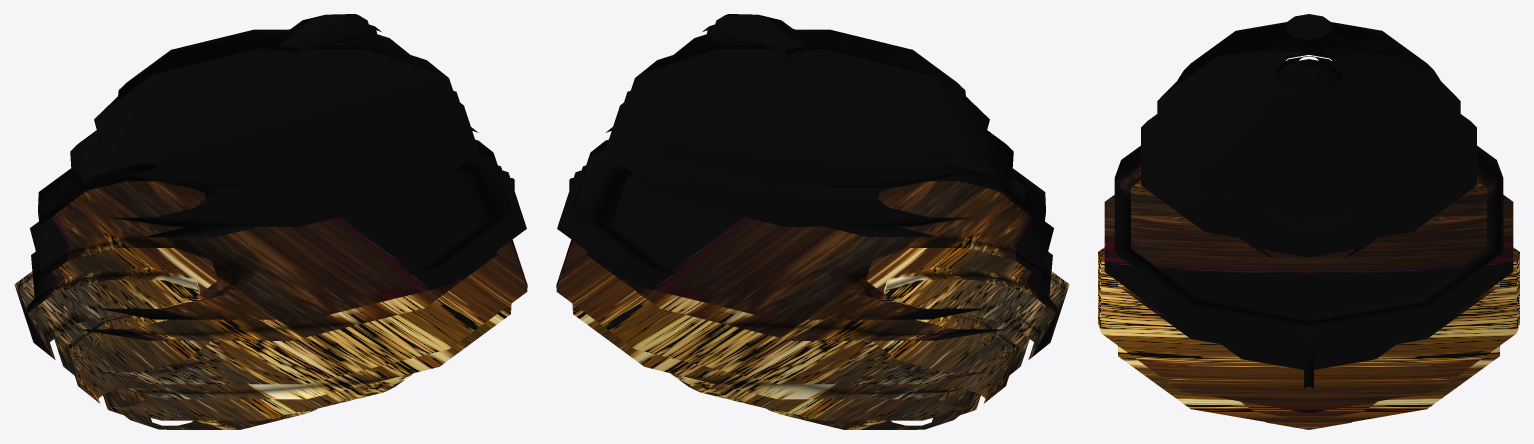
The model's file is rock_gold.glb.
3 renders of one model, left to right at view 1: azimuth 30°, elevation 25°; view 2: azimuth 150°, elevation 25°; view 3: azimuth 270°, elevation 25°, orthographic.
Visible parts, largest first — view 1: solid; view 2: solid; view 3: solid.
Part boxes in pixels (box(x1,y1,x2,y2)): solid: box(14, 14, 527, 429); solid: box(556, 14, 1069, 429); solid: box(1098, 14, 1519, 429).
Bounding box in the file's own units: 1.41 × 1 × 1.06.
Materials: 1 (1 with a texture image).
